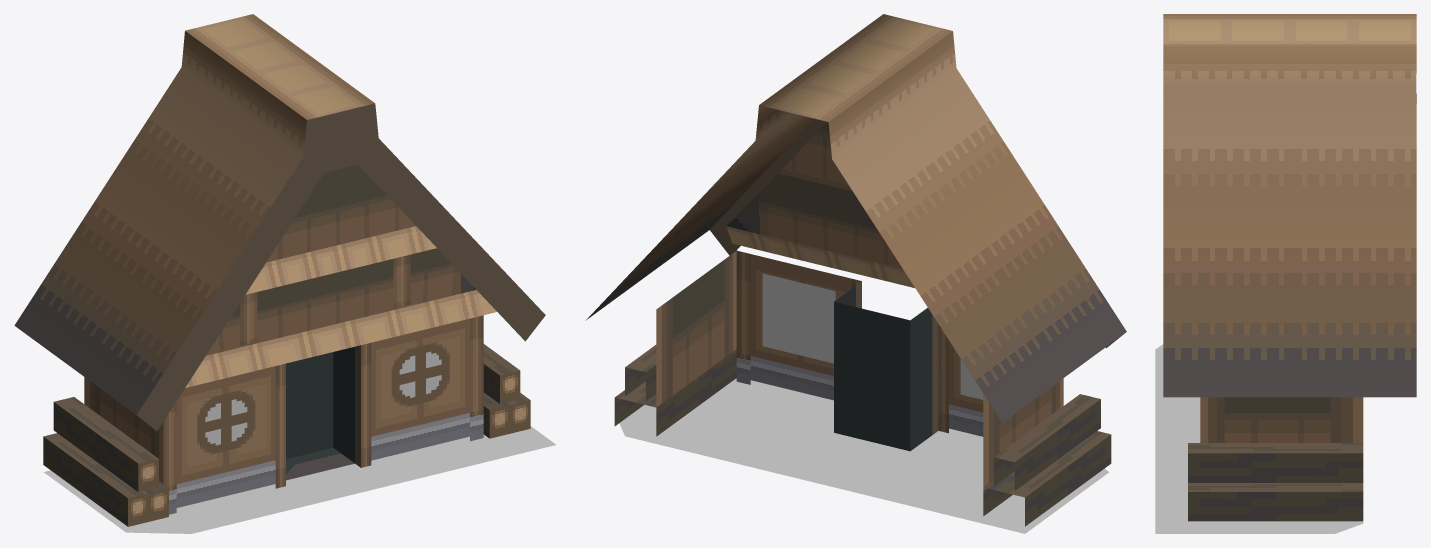
Rendered from casaCynthia.obj.
3 renders of one model, left to right at view 1: azimuth 30°, elevation 25°; view 2: azimuth 150°, elevation 25°; view 3: azimuth 270°, elevation 25°, orthographic. The views are drawn at different scales.
Visible parts, largest first — view 1: Cynthia's_Family's_House; view 2: Cynthia's_Family's_House; view 3: Cynthia's_Family's_House.
Part boxes in pixels (x1=…): Cynthia's_Family's_House: x1=14, y1=14, x2=555, y2=533; Cynthia's_Family's_House: x1=585, y1=14, x2=1126, y2=533; Cynthia's_Family's_House: x1=1155, y1=14, x2=1416, y2=533.
Bounding box in the file's own units: 122 × 107 × 64.04.
